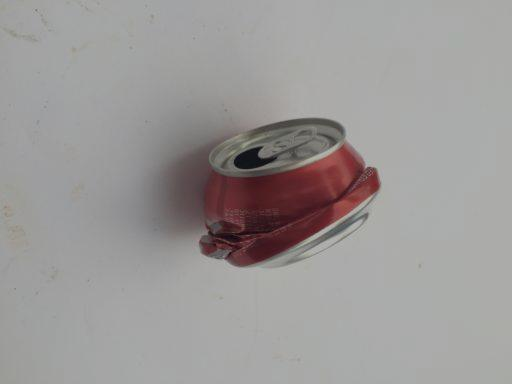metal: (196, 116, 382, 271)
